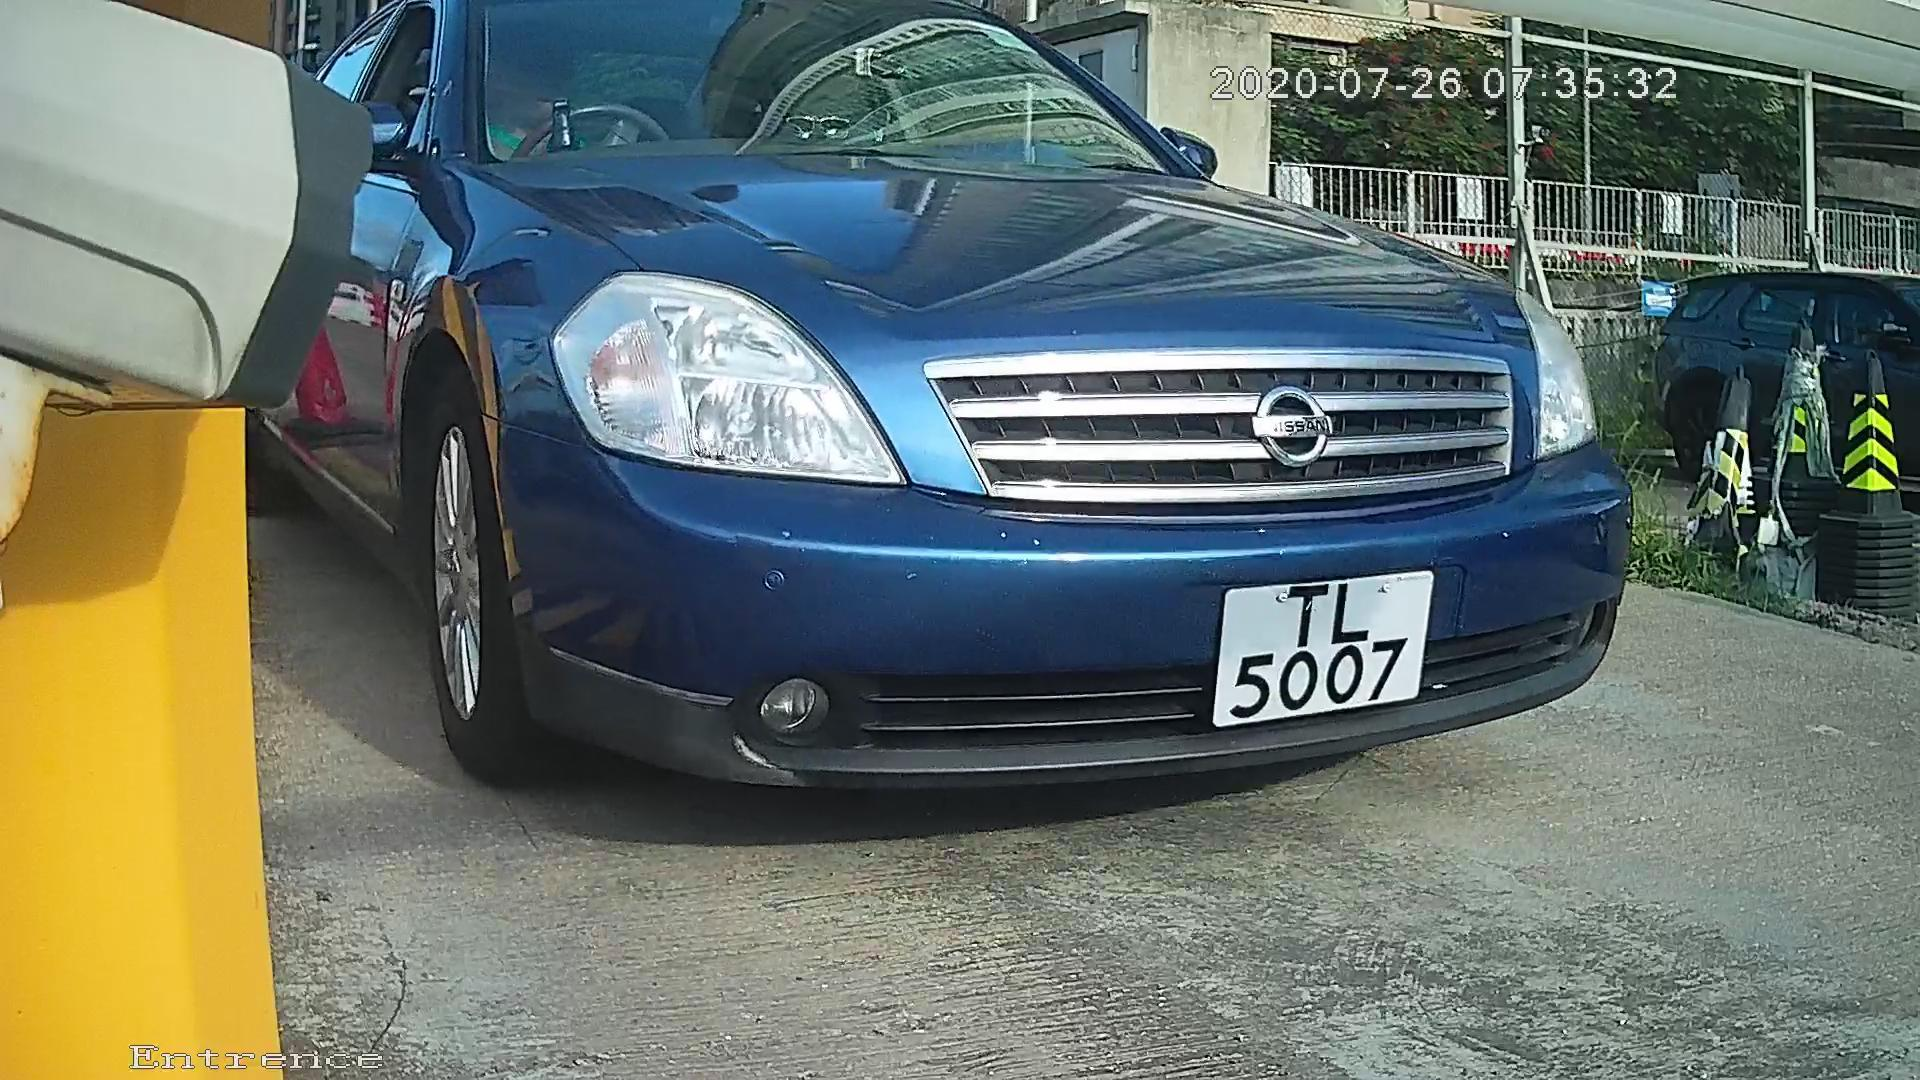privatecar: (241, 29, 1775, 844)
